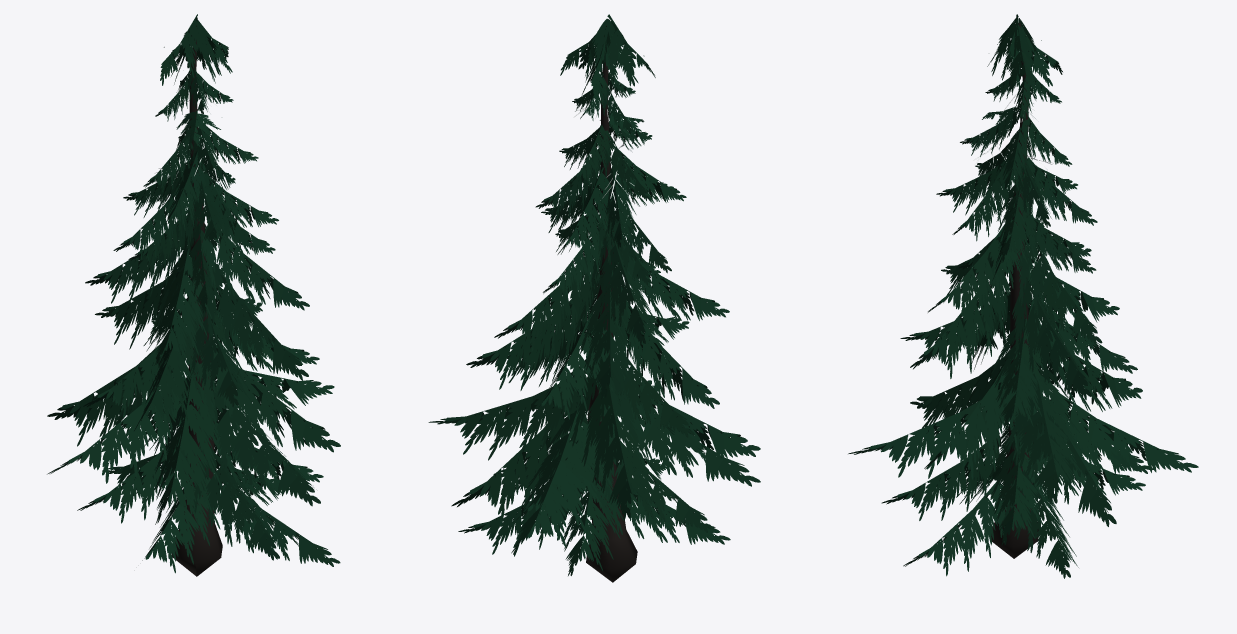
The model's file is pine_small.glb.
3 views of the same model, side by side, from view 1: azimuth 30°, elevation 25°; view 2: azimuth 150°, elevation 25°; view 3: azimuth 270°, elevation 25° (orthographic). The views are drawn at different scales.
Visible parts, largest first — view 1: Object_25, Object_24; view 2: Object_25, Object_24; view 3: Object_25, Object_24.
Part boxes in pixels (x1,y1,x2,y2): Object_25: [47, 14, 340, 573]; Object_24: [171, 25, 222, 576]; Object_25: [428, 14, 760, 575]; Object_24: [586, 26, 637, 582]; Object_25: [848, 14, 1198, 578]; Object_24: [991, 23, 1038, 558].
Bounding box in the file's own units: 3.47 × 5.34 × 3.52.
3 materials, 2 textured.
